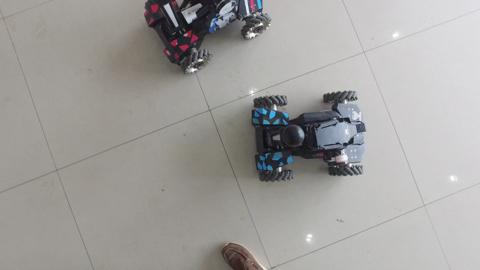chariot: (241, 84, 368, 187), (139, 1, 275, 82)
